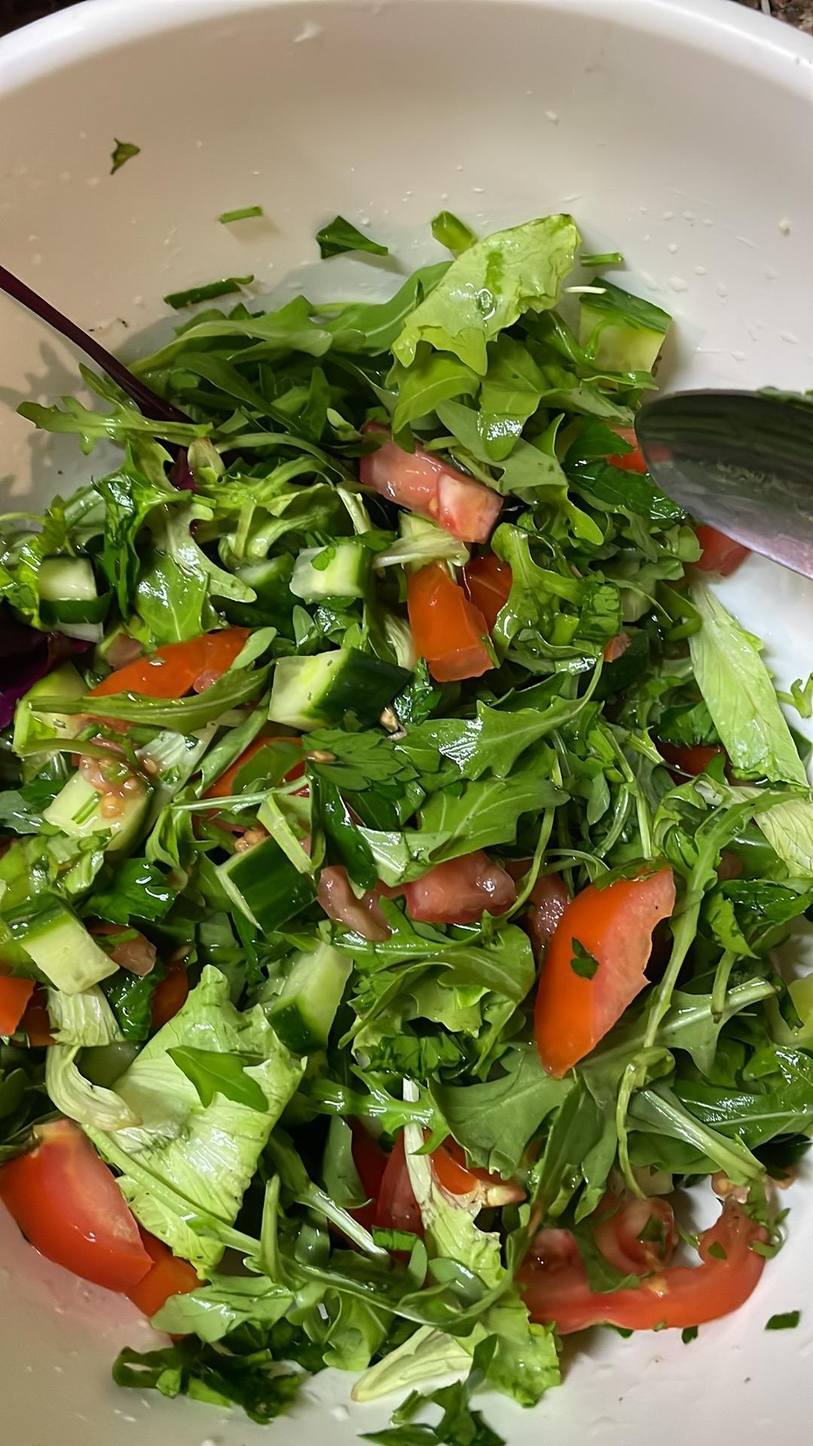cucumber: (213, 828, 318, 956), (578, 277, 687, 373), (271, 644, 378, 732), (294, 544, 395, 616), (32, 537, 91, 627)
lettuce: (169, 1246, 617, 1408), (136, 232, 597, 367), (73, 415, 305, 638), (664, 567, 810, 874), (75, 1000, 316, 1175), (341, 909, 533, 1120), (664, 721, 806, 966), (514, 480, 663, 710), (640, 985, 800, 1187)
tomato: (516, 1143, 764, 1327), (525, 855, 681, 1060), (0, 1111, 153, 1295), (350, 420, 506, 552), (393, 554, 510, 689), (364, 1124, 493, 1243), (83, 633, 248, 719)
